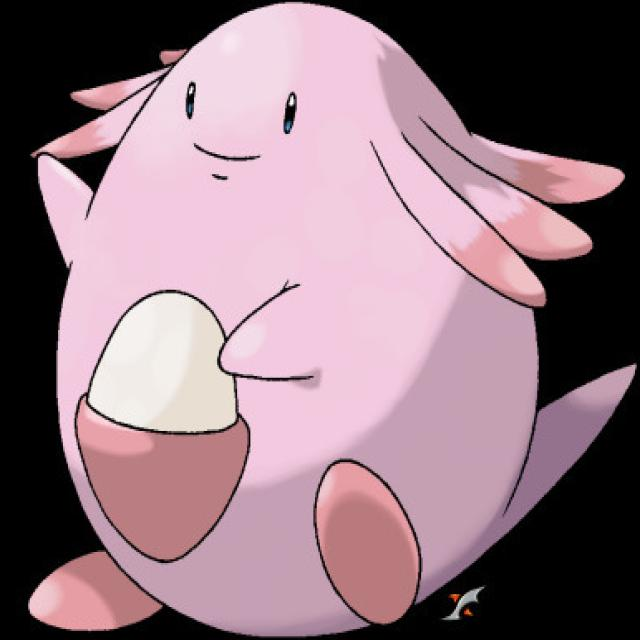Chansey: (30, 3, 558, 640)
